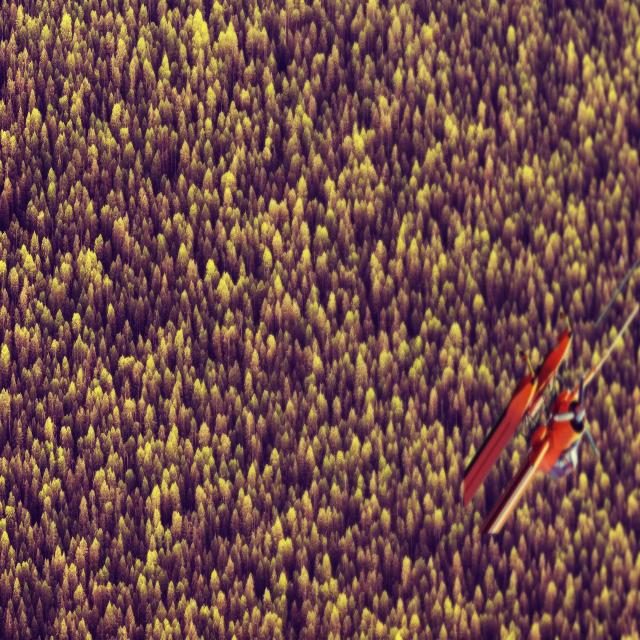airplane: (463, 256, 640, 532)
